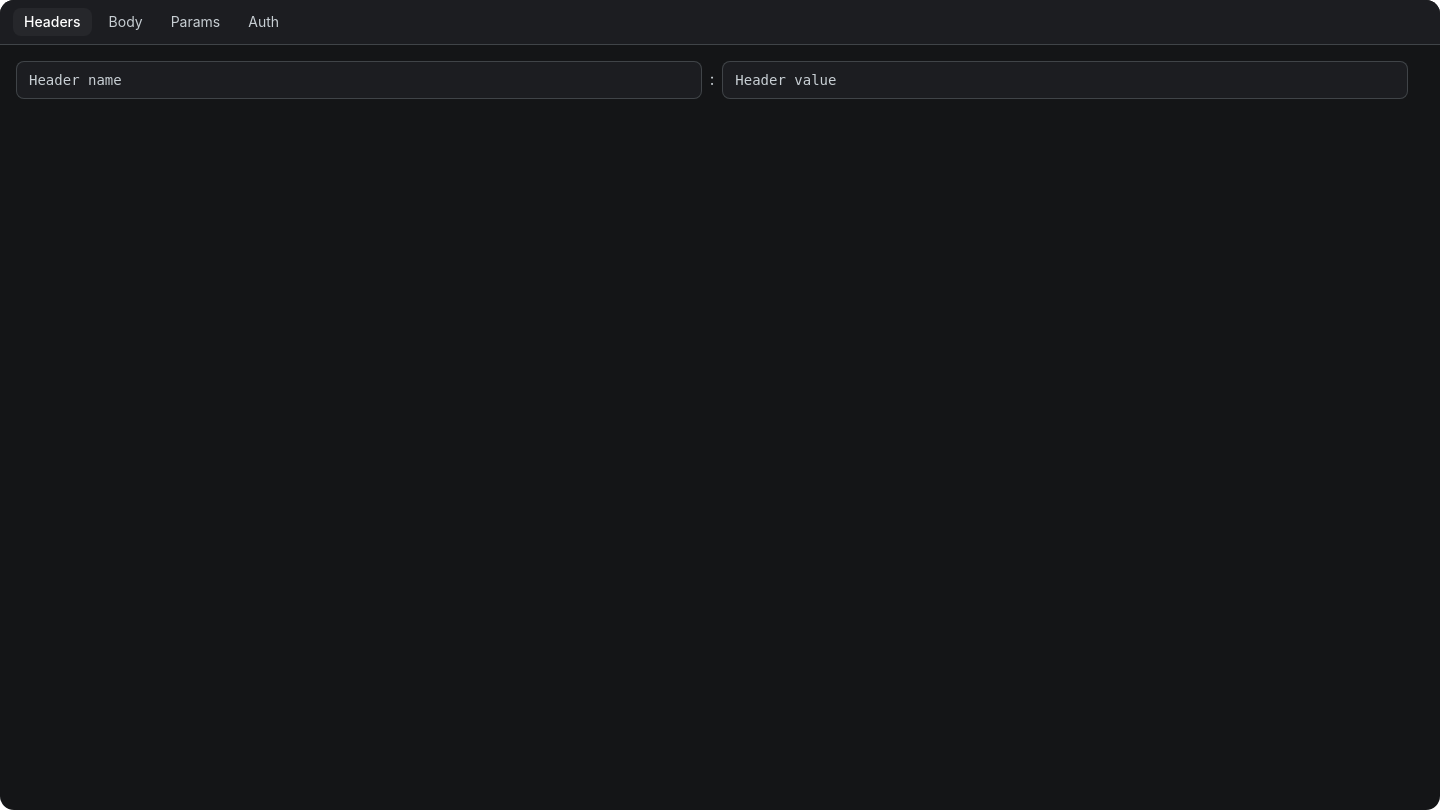
Test: RequestBuilder › switches to Params tab when clicked
The image size is (1440, 810).
Click the tab with test id "request-tab-params".
click(196, 22)  # box x1=159 y1=8 x2=232 y2=36
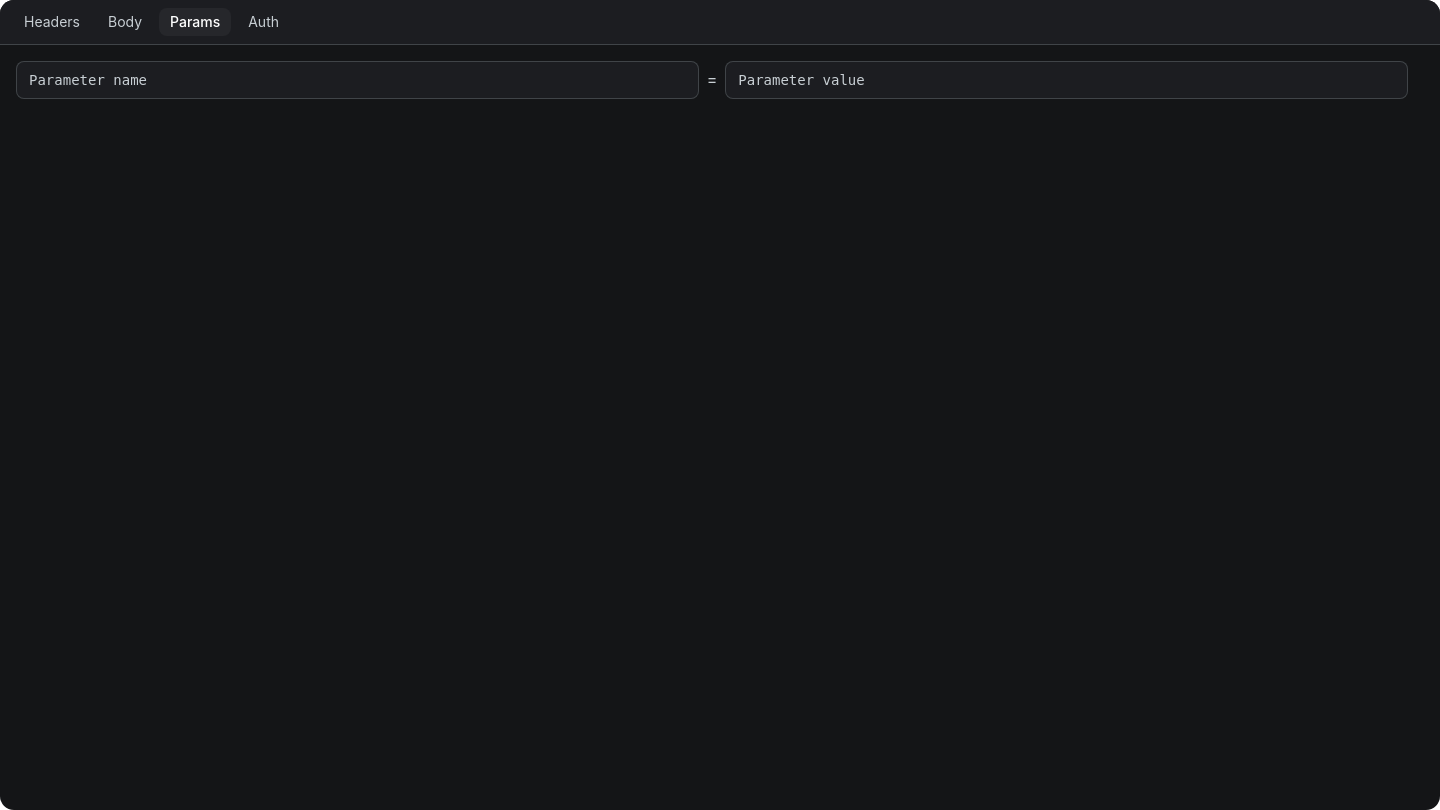
Check: the element with test id "param-editor" is shown, box x1=16 y1=61 x2=1408 y2=99
